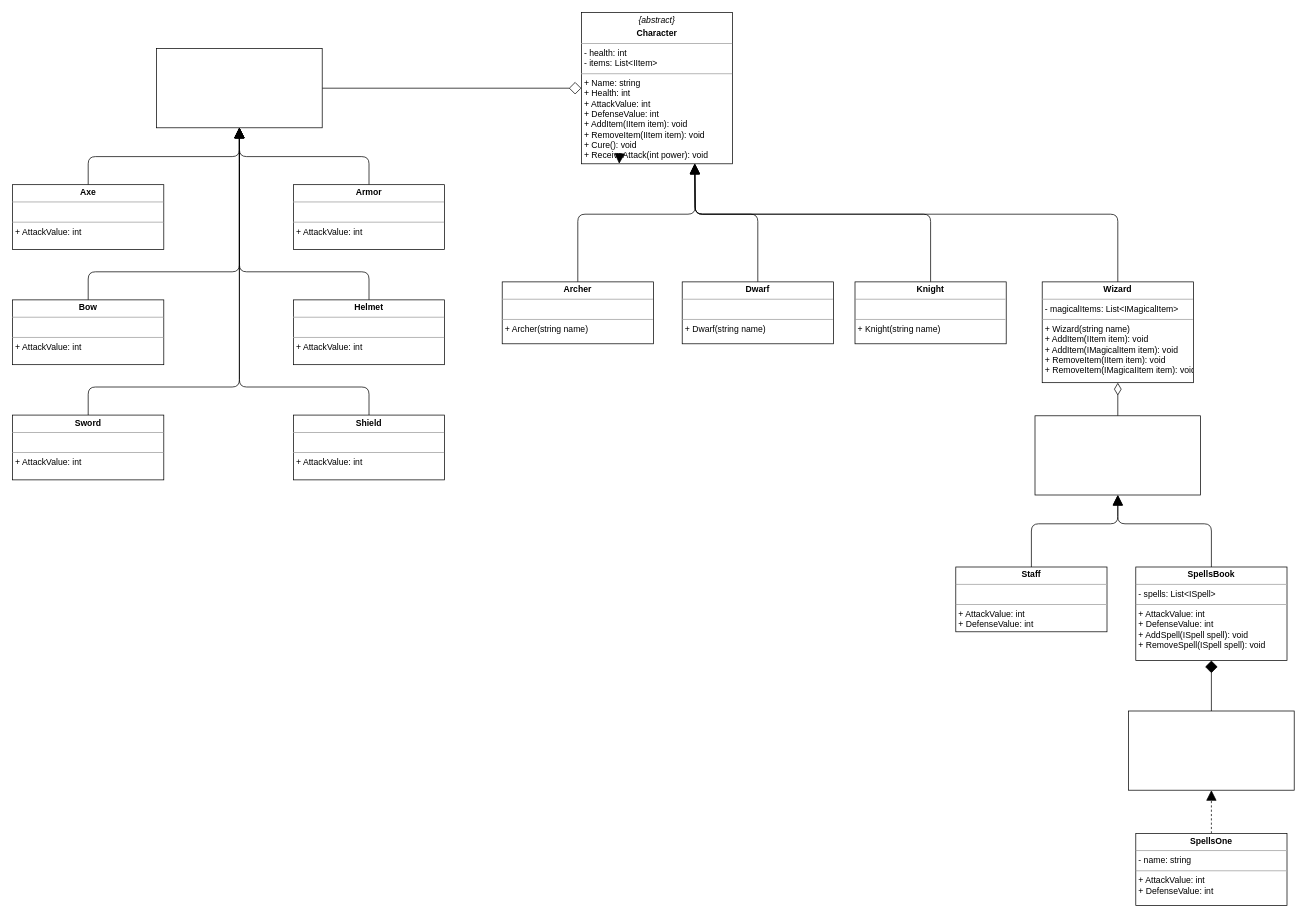
Some shapes in this 1307 by 918 pixel diagram are drawn without their labels. Here are the shapes that lost their labels. From the top down, the centre of each, then its label:
At point (239, 88): "{abstract} Item - name: string + AttackValue: int + DefenseValue: int".
At point (1117, 455): "{abstract} MagicItem + AttackValue: int + DefenseValue: int".
At point (1211, 750): "<<Interface>> ISpell + AttackValue: int + DefenseValue: int".
